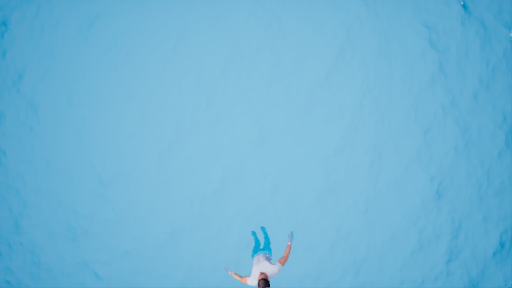person: (224, 224, 295, 288)
